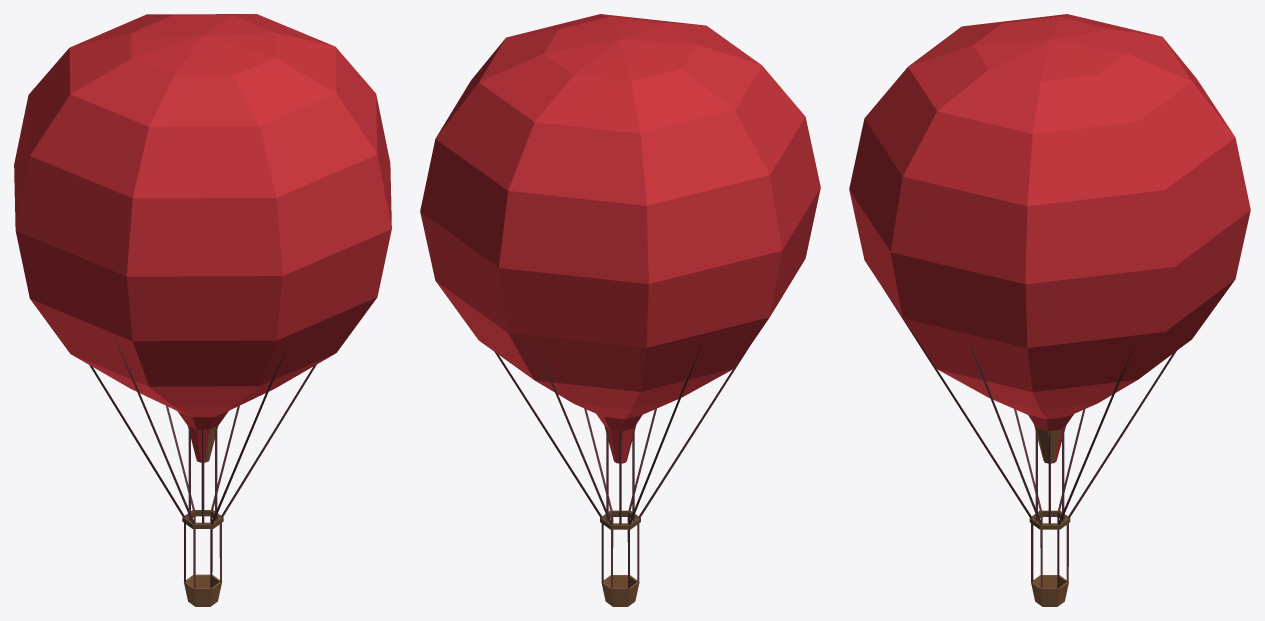
File: balloon-spotter.37d87fa8.glb
The picture shows the model from 3 angles, left to right: view 1: azimuth 30°, elevation 25°; view 2: azimuth 150°, elevation 25°; view 3: azimuth 270°, elevation 25°; orthographic projection.
Parts seen in each view (by area): view 1: balloon-spotter; view 2: balloon-spotter; view 3: balloon-spotter.
Part boxes in pixels (bbox=[...]): balloon-spotter: bbox=[14, 14, 391, 606]; balloon-spotter: bbox=[420, 14, 820, 606]; balloon-spotter: bbox=[849, 14, 1250, 606].
Bounding box in the file's own units: 11.91 × 18.38 × 11.91.
